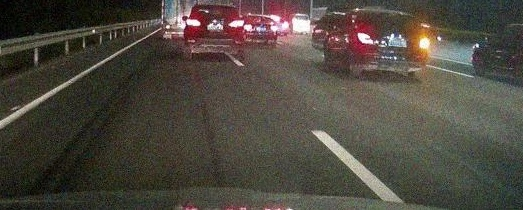L_light: (355, 32, 374, 45), (186, 19, 202, 27)
R_light: (414, 36, 429, 48), (228, 19, 244, 28)
T_light: (380, 12, 394, 16), (212, 6, 223, 9)
night-no: (185, 3, 244, 60)
night-right: (350, 8, 430, 78)
